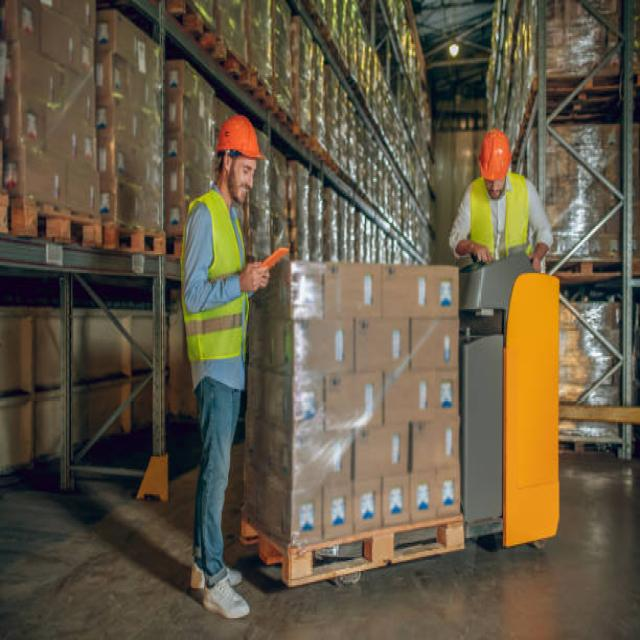Wooden-Pallets: (237, 516, 467, 589), (13, 191, 107, 254), (101, 215, 170, 260)
